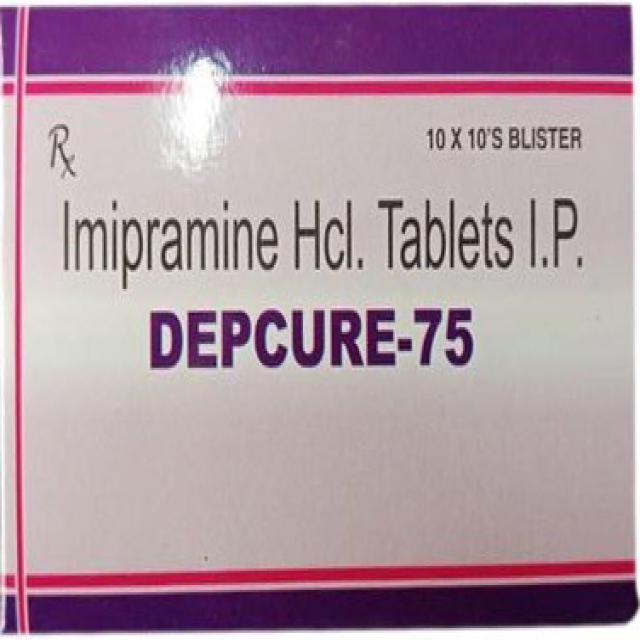drug-name: (146, 292, 477, 376)
